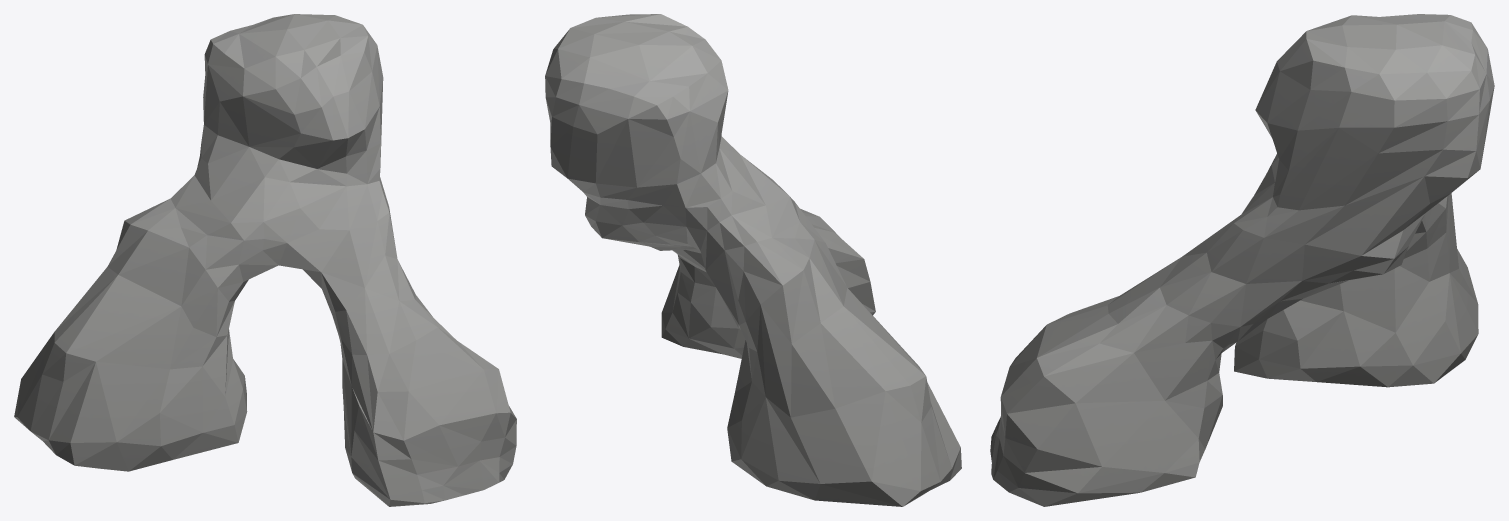
The model's file is Cavern_Pillar-05.fbx.
3 views of the same model, side by side, from view 1: azimuth 30°, elevation 25°; view 2: azimuth 150°, elevation 25°; view 3: azimuth 270°, elevation 25° (orthographic). The views are drawn at different scales.
Visible parts, largest first — view 1: Cavern_Pillar-05; view 2: Cavern_Pillar-05; view 3: Cavern_Pillar-05.
Boxes of the visible parts, x1=… form: Cavern_Pillar-05: x1=14, y1=14, x2=516, y2=506; Cavern_Pillar-05: x1=545, y1=14, x2=961, y2=506; Cavern_Pillar-05: x1=990, y1=14, x2=1494, y2=506.
Bounding box in the file's own units: 1365 × 1322 × 1358.
1 material, 1 textured.
